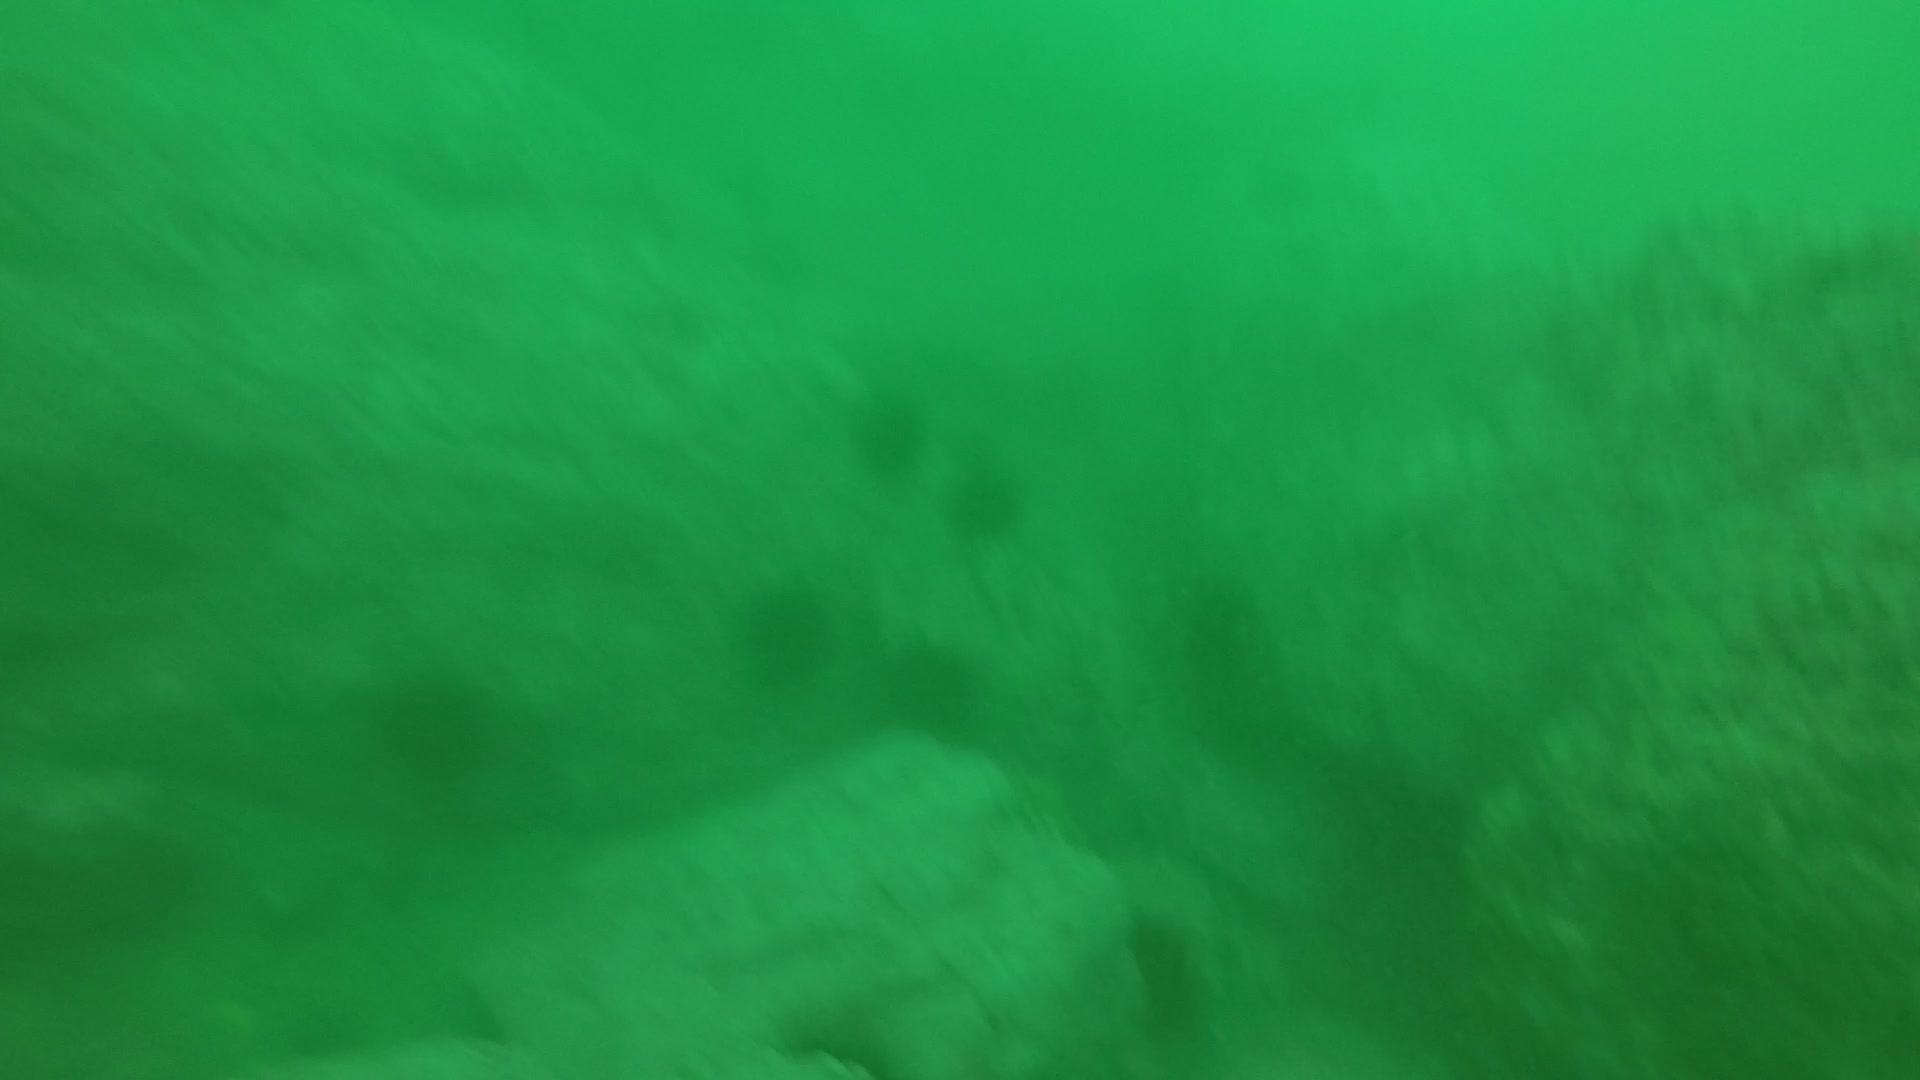echinus: (367, 665, 500, 786), (873, 632, 992, 745), (731, 572, 839, 688), (1118, 909, 1209, 1036), (770, 993, 903, 1079), (841, 377, 934, 477), (942, 454, 1029, 543)
